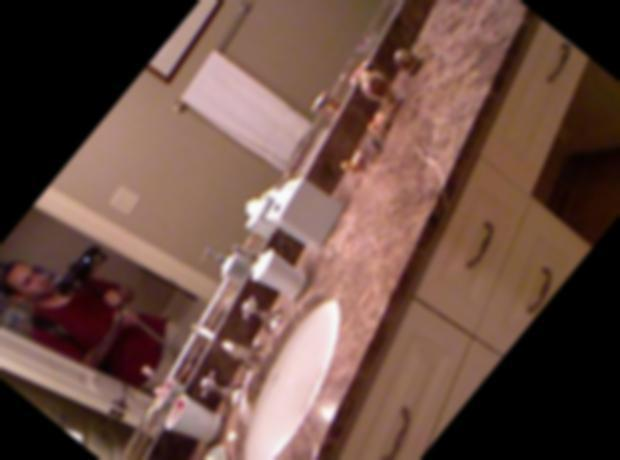Lavamanos: (163, 257, 387, 460)
